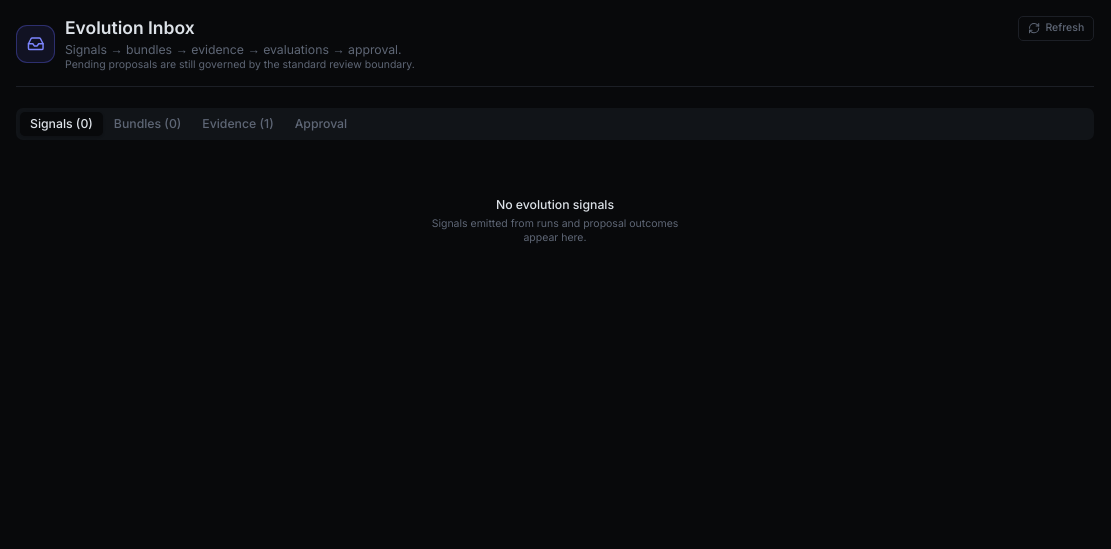
Scenario: EvolutionInboxPage › keeps released bundle members out of new bundle selection
Click the tab "Evidence (1)" at x=238, y=124, box x1=192 y1=112 x2=284 y2=136
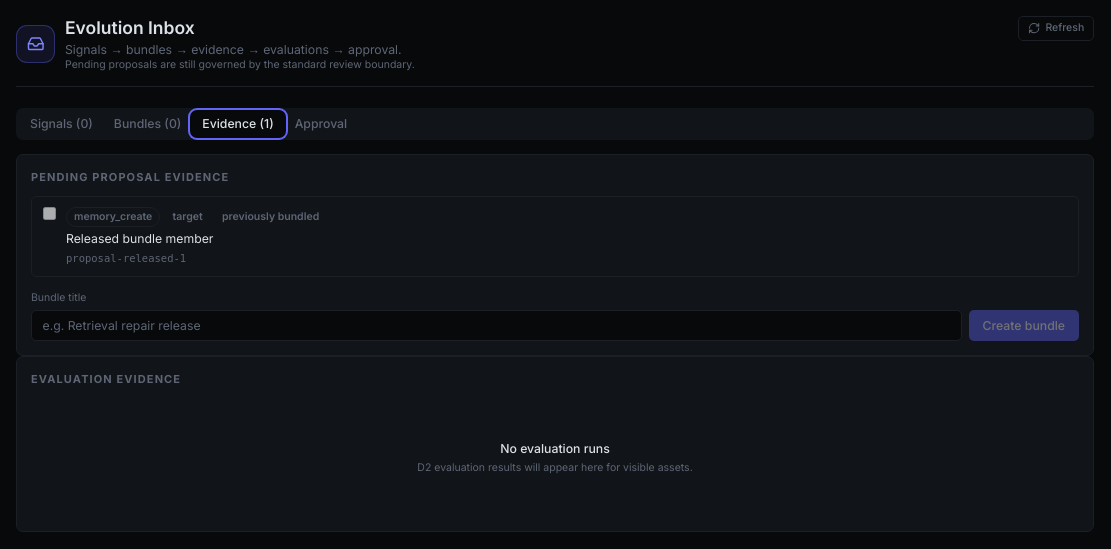
Check: the text "previously bundled" is shown, box x1=215 y1=207 x2=326 y2=226
Check: the checkbox is disabled, box x1=42 y1=207 x2=56 y2=220
